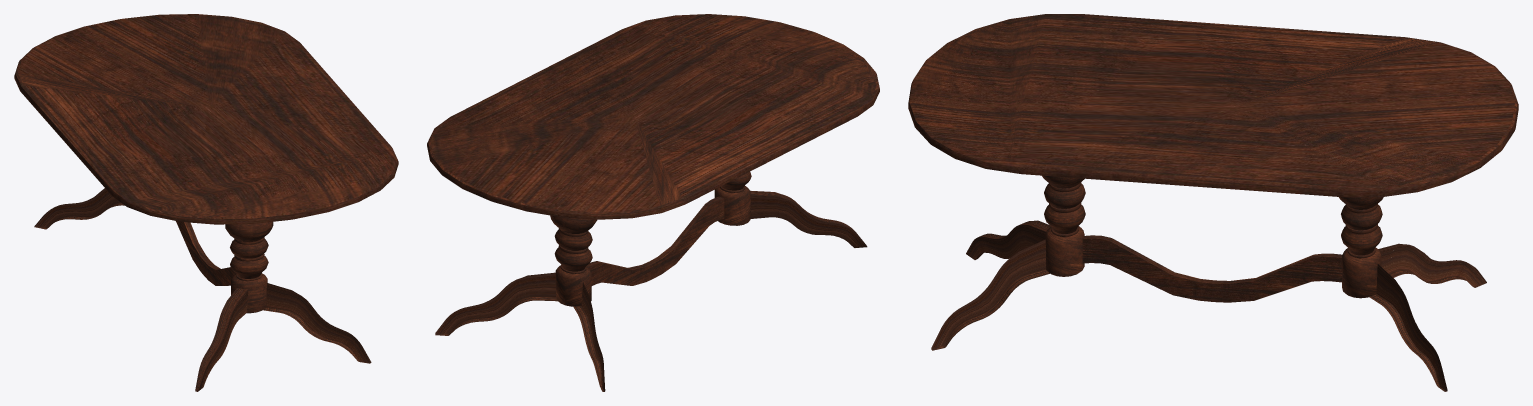
File: TableBig.fbx
3 views of the same model, side by side, from view 1: azimuth 30°, elevation 25°; view 2: azimuth 150°, elevation 25°; view 3: azimuth 270°, elevation 25° (orthographic). The views are drawn at different scales.
Visible parts, largest first — view 1: Tab.001_cell.004_cell.001, Tab.001_cell.004_cell, Tab.001_cell.004_cell.003, Tab.001_cell.004_cell.002, Tab.001_cell.021, Tab.001_cell.005, Tab.001_cell.008, Tab.001_cell.022, Tab.001_cell.002, Tab.001_cell, Tab.001_cell.009, Tab.001_cell.003; view 2: Tab.001_cell.004_cell.001, Tab.001_cell.004_cell, Tab.001_cell.004_cell.003, Tab.001_cell.004_cell.002, Tab.001_cell.017, Tab.001_cell.012, Tab.001_cell.022, Tab.001_cell.005, Tab.001_cell.008, Tab.001_cell.006, Tab.001_cell, Tab.001_cell.013 (+2 smaller); view 3: Tab.001_cell.004_cell, Tab.001_cell.004_cell.001, Tab.001_cell.004_cell.003, Tab.001_cell.004_cell.002, Tab.001_cell.021, Tab.001_cell.003, Tab.001_cell.017, Tab.001_cell.005, Tab.001_cell.012, Tab.001_cell.008, Tab.001_cell.006, Tab.001_cell (+4 smaller).
Part boxes in pixels (left/top/right/bottom): Tab.001_cell.004_cell.001: left=14, top=14, right=248, bottom=159; Tab.001_cell.004_cell: left=81, top=68, right=398, bottom=223; Tab.001_cell.004_cell.003: left=137, top=151, right=397, bottom=224; Tab.001_cell.004_cell.002: left=210, top=19, right=322, bottom=107; Tab.001_cell.021: left=262, top=283, right=371, bottom=363; Tab.001_cell.005: left=230, top=256, right=268, bottom=313; Tab.001_cell.008: left=34, top=188, right=124, bottom=229; Tab.001_cell.022: left=204, top=288, right=248, bottom=362; Tab.001_cell.002: left=225, top=222, right=273, bottom=258; Tab.001_cell: left=188, top=248, right=220, bottom=280; Tab.001_cell.009: left=195, top=343, right=227, bottom=391; Tab.001_cell.003: left=176, top=221, right=208, bottom=258; Tab.001_cell.004_cell.001: left=430, top=116, right=800, bottom=219; Tab.001_cell.004_cell: left=493, top=24, right=879, bottom=146; Tab.001_cell.004_cell.003: left=633, top=14, right=879, bottom=94; Tab.001_cell.004_cell.002: left=427, top=95, right=632, bottom=174; Tab.001_cell.017: left=435, top=272, right=557, bottom=335; Tab.001_cell.012: left=554, top=247, right=592, bottom=306; Tab.001_cell.022: left=750, top=190, right=844, bottom=225; Tab.001_cell.005: left=714, top=172, right=751, bottom=225; Tab.001_cell.008: left=578, top=295, right=605, bottom=391; Tab.001_cell.006: left=678, top=196, right=724, bottom=242; Tab.001_cell: left=625, top=238, right=685, bottom=285; Tab.001_cell.013: left=550, top=215, right=597, bottom=250; Tab.001_cell.004_cell: left=935, top=14, right=1266, bottom=191; Tab.001_cell.004_cell.001: left=1188, top=21, right=1518, bottom=179; Tab.001_cell.004_cell.003: left=908, top=16, right=1034, bottom=164; Tab.001_cell.004_cell.002: left=1232, top=108, right=1479, bottom=197; Tab.001_cell.021: left=931, top=239, right=1050, bottom=350; Tab.001_cell.003: left=1216, top=253, right=1342, bottom=301; Tab.001_cell.017: left=1369, top=264, right=1447, bottom=391; Tab.001_cell.005: left=1044, top=205, right=1085, bottom=276; Tab.001_cell.012: left=1341, top=226, right=1382, bottom=298; Tab.001_cell.008: left=1387, top=243, right=1486, bottom=287; Tab.001_cell.006: left=1082, top=235, right=1161, bottom=274; Tab.001_cell: left=1156, top=265, right=1245, bottom=302.
Size of the model in its own units: 24959 by 14383 by 36246.
